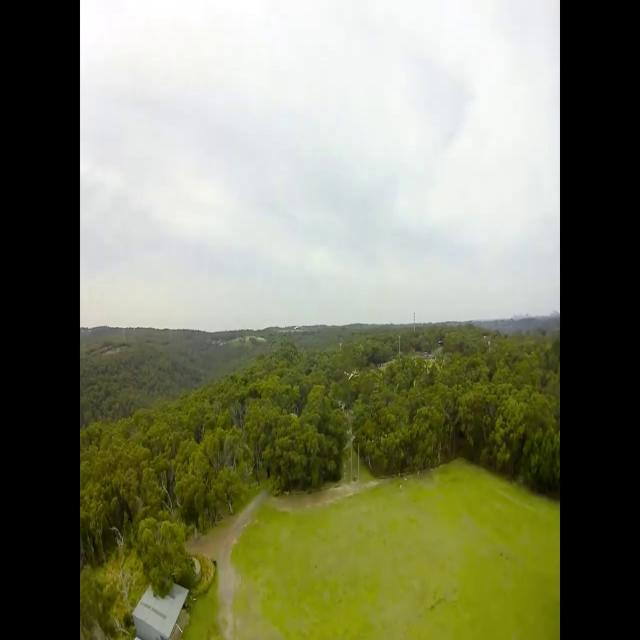iha: (344, 373, 358, 378)
